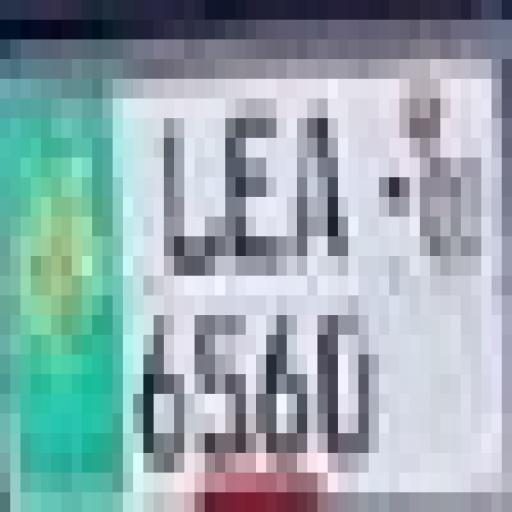0: (318, 302, 376, 453)
5: (192, 308, 243, 454)
6: (252, 304, 309, 447), (138, 304, 185, 472)
A: (282, 80, 360, 276)
E: (224, 109, 288, 270)
L: (164, 112, 219, 280)
